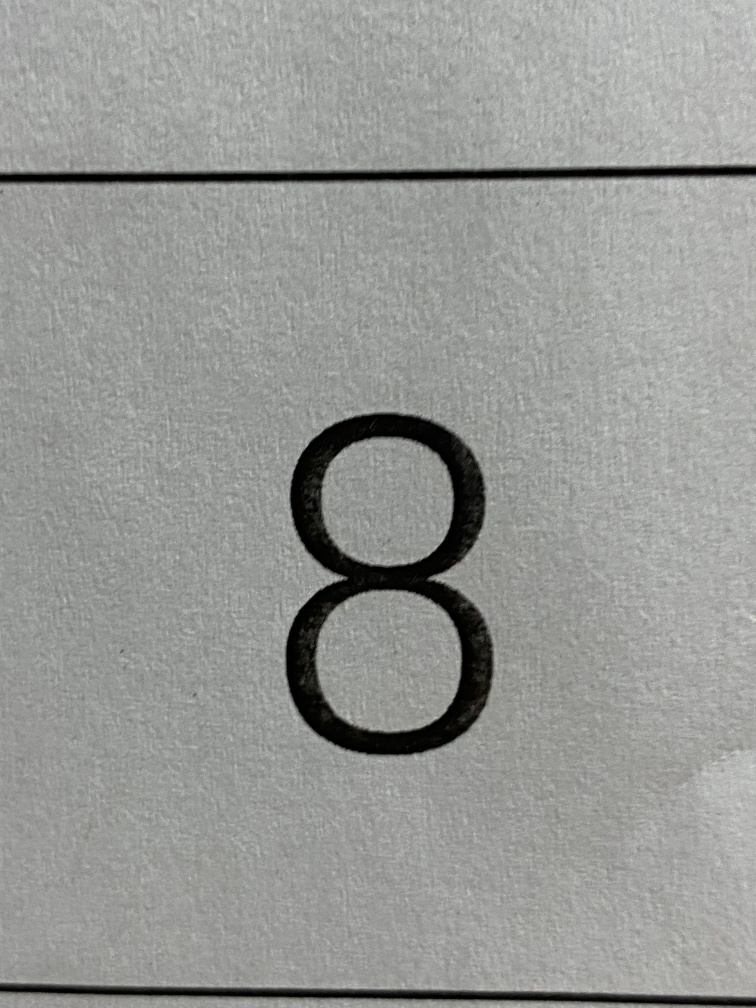eight: (211, 361, 566, 806)
